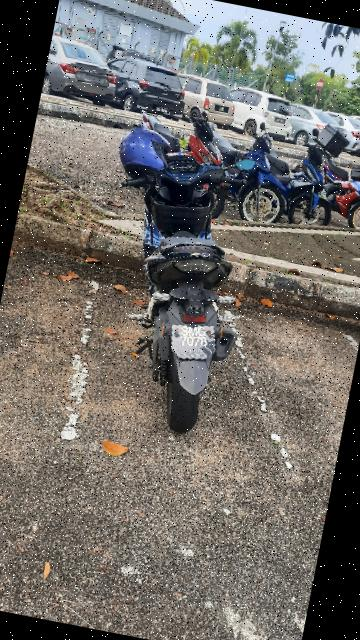License_Plate: (162, 316, 228, 368)
motorcycle: (54, 107, 309, 448)
